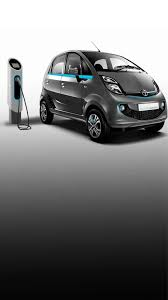Nano: (38, 47, 167, 153)
